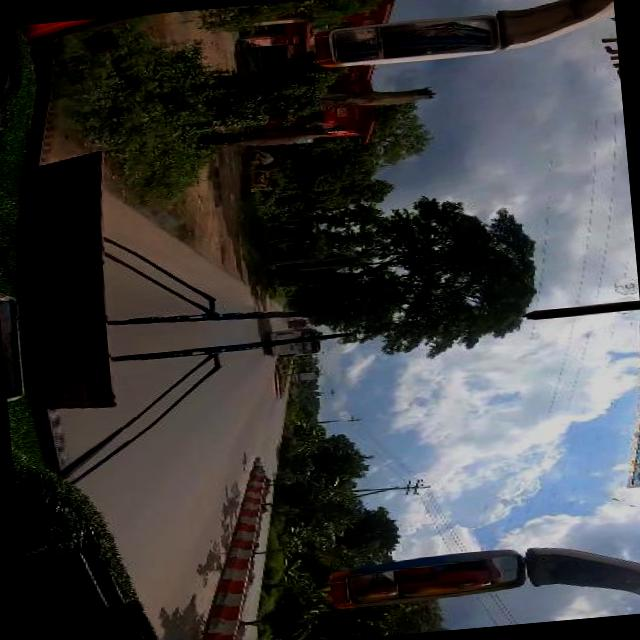bus: (269, 326, 326, 356)
